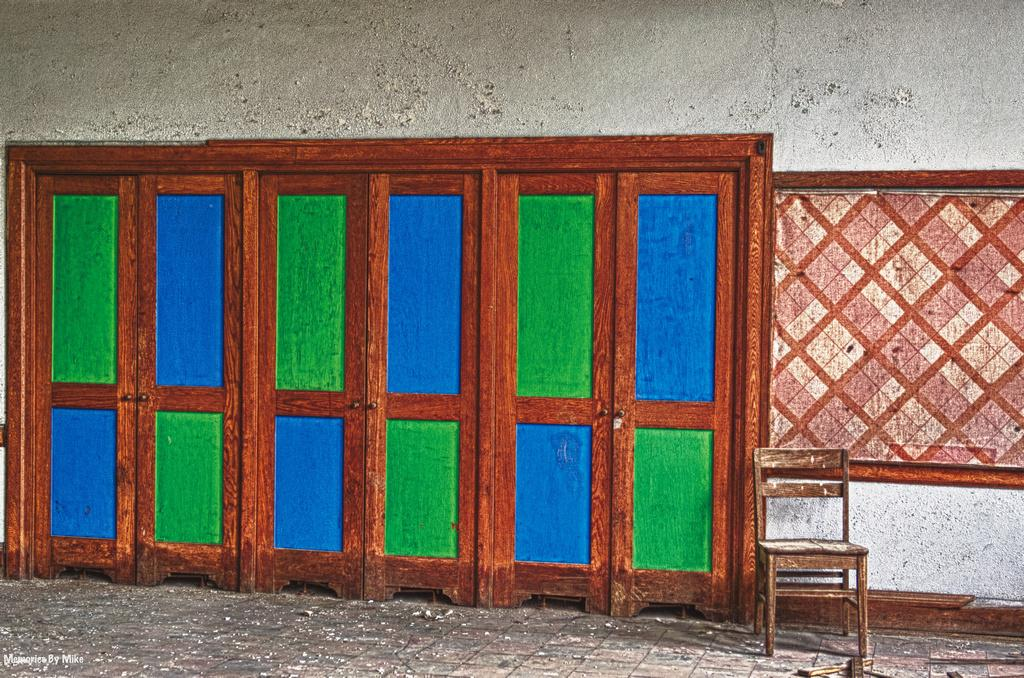Chair: (748, 448, 909, 670)
